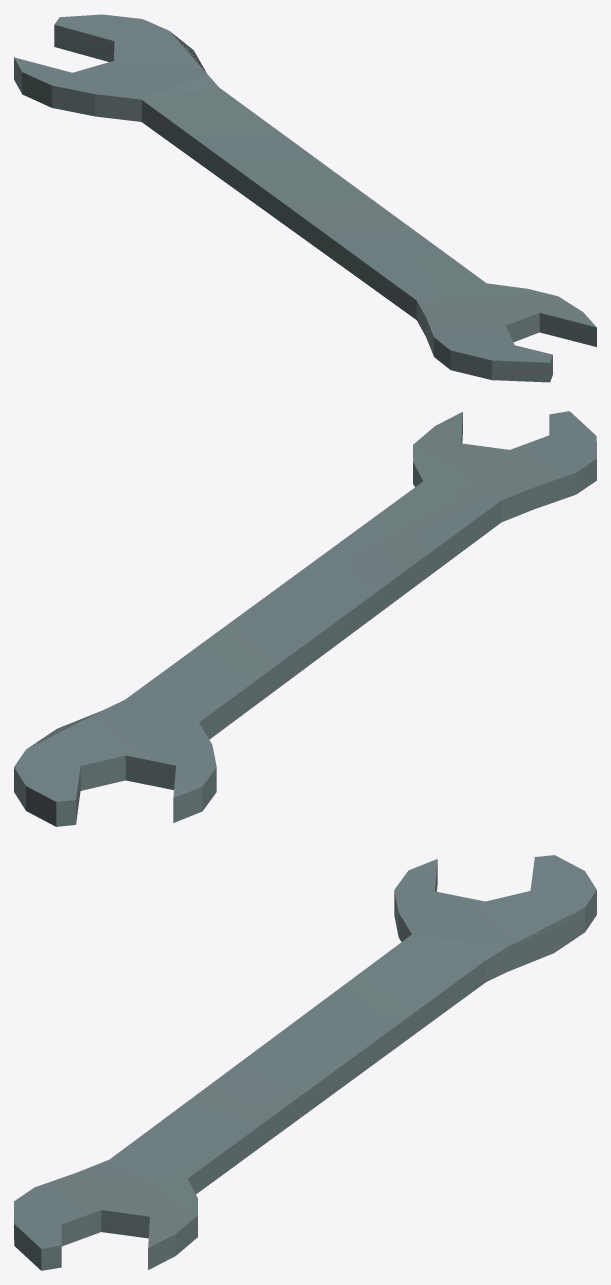
The model's file is WrenchOpen.fbx.
The picture shows the model from 3 angles, top to bottom: view 1: azimuth 30°, elevation 25°; view 2: azimuth 150°, elevation 25°; view 3: azimuth 330°, elevation 25°; orthographic projection. The views are drawn at different scales.
Parts seen in each view (by area): view 1: WrenchOpen; view 2: WrenchOpen; view 3: WrenchOpen.
Boxes of the visible parts, box(x1,y1,x2,y2) form: WrenchOpen: box(14, 14, 596, 382); WrenchOpen: box(14, 411, 596, 826); WrenchOpen: box(14, 855, 596, 1270).
Size of the model in its own units: 23.73 by 2.88 by 111.
